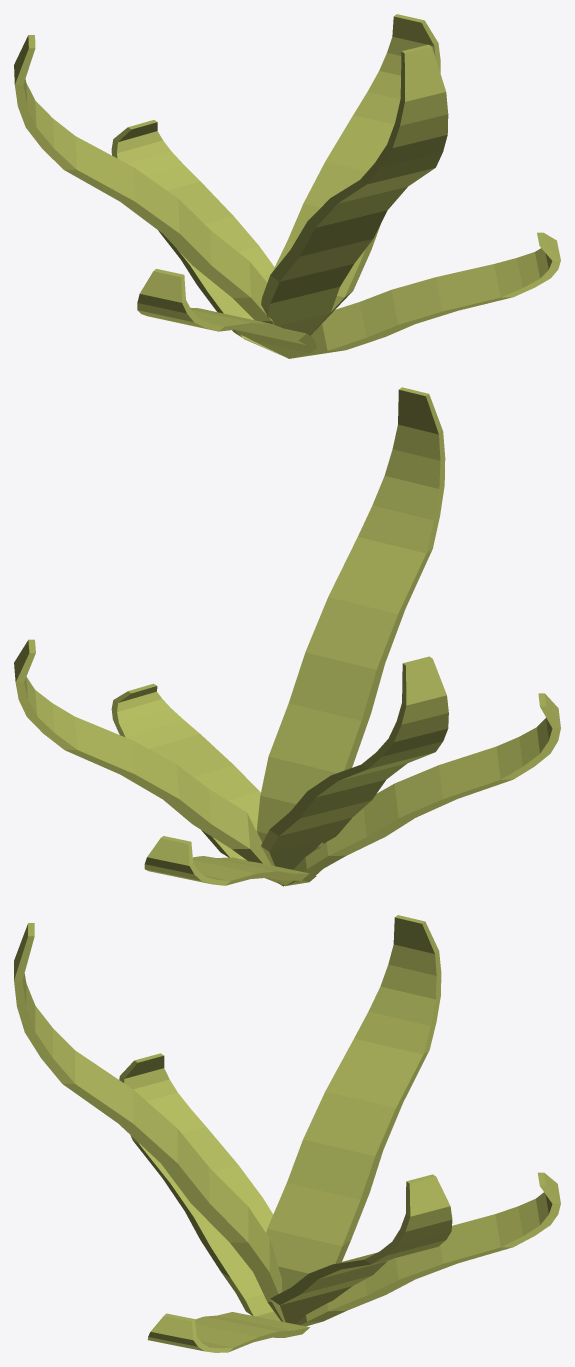
The model's file is Dead Grass 003.fbx.
3 views of the same model, one above another, from view 1: azimuth 30°, elevation 25°; view 2: azimuth 150°, elevation 25°; view 3: azimuth 270°, elevation 25° (orthographic).
Parts seen in each view (by area): view 1: Cube.062; view 2: Cube.062; view 3: Cube.062.
Part boxes in pixels (<box>): Cube.062: <box>14,14,560,358</box>; Cube.062: <box>14,387,560,886</box>; Cube.062: <box>14,915,560,1352</box>.
Bounding box in the file's own units: 76.97 × 67.7 × 83.55.
